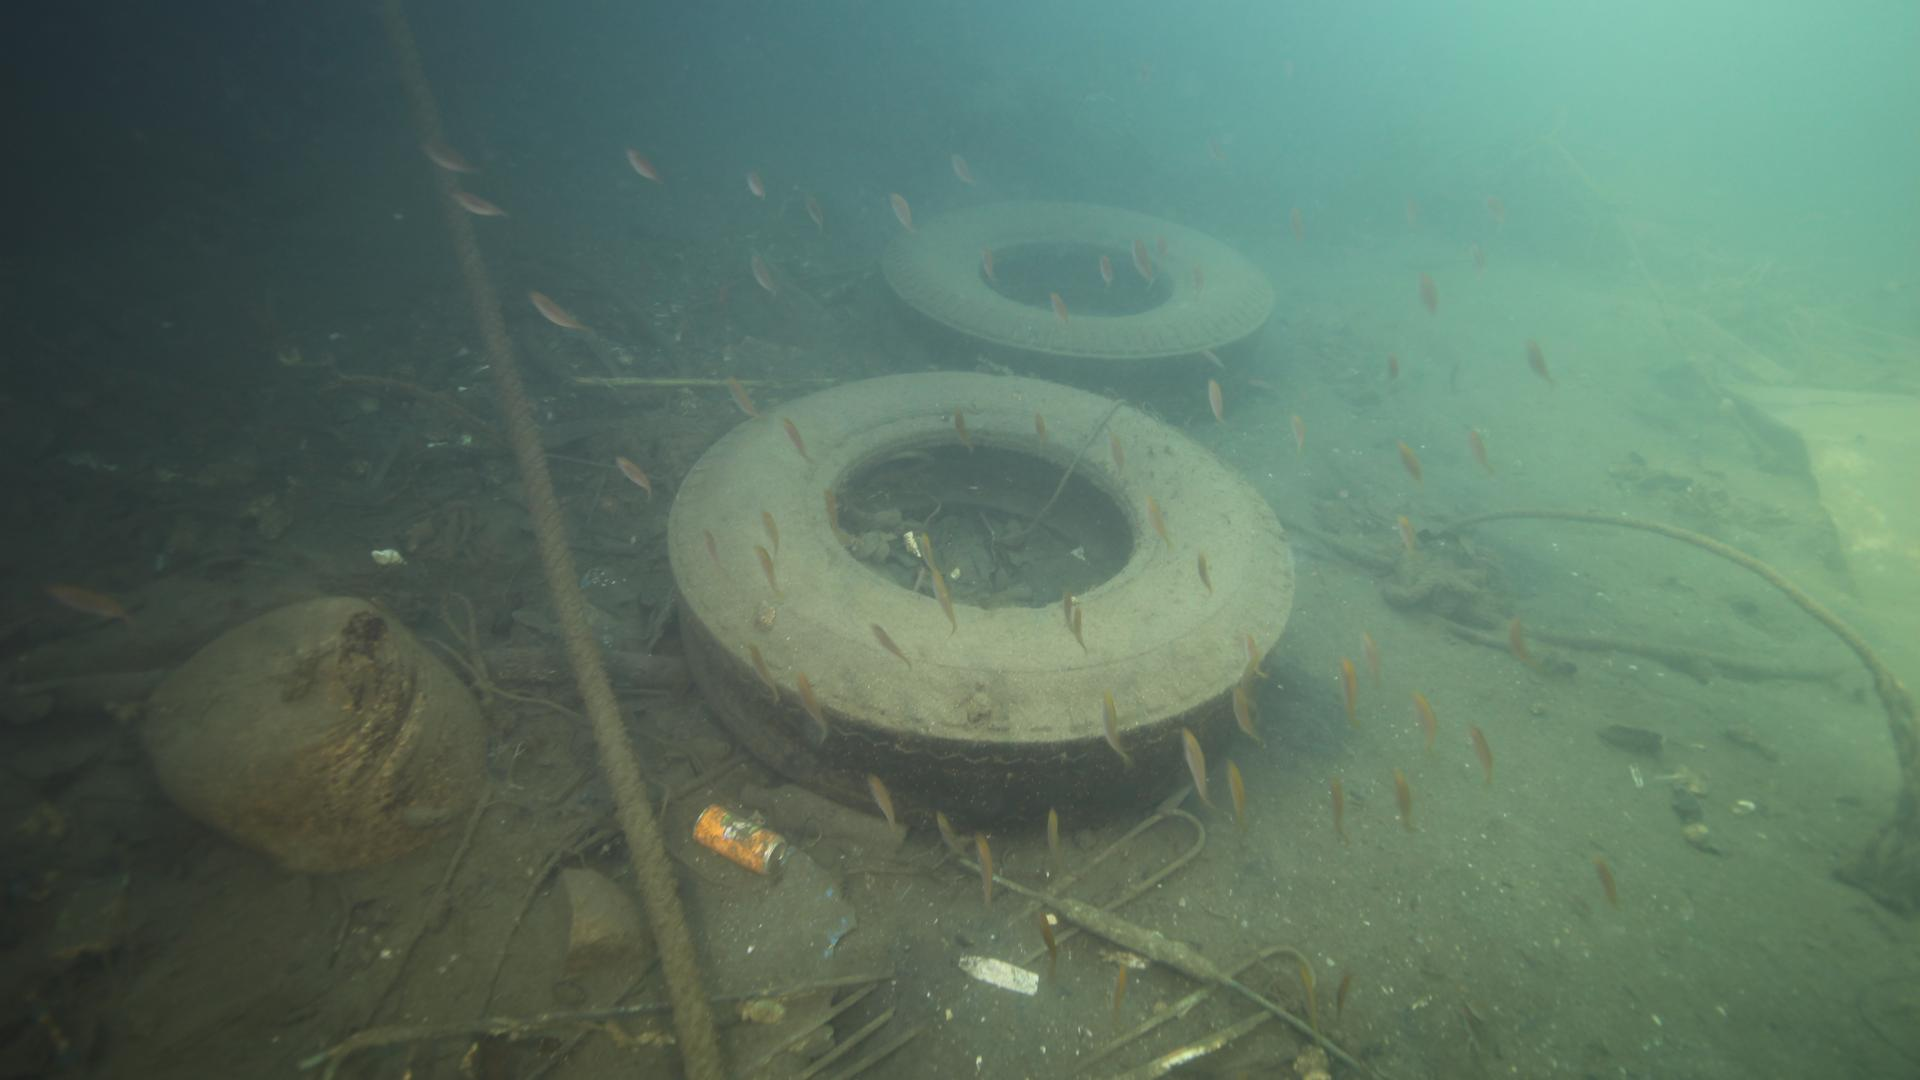rope: (375, 0, 733, 1077)
tire: (659, 371, 1300, 837), (874, 195, 1279, 411)
